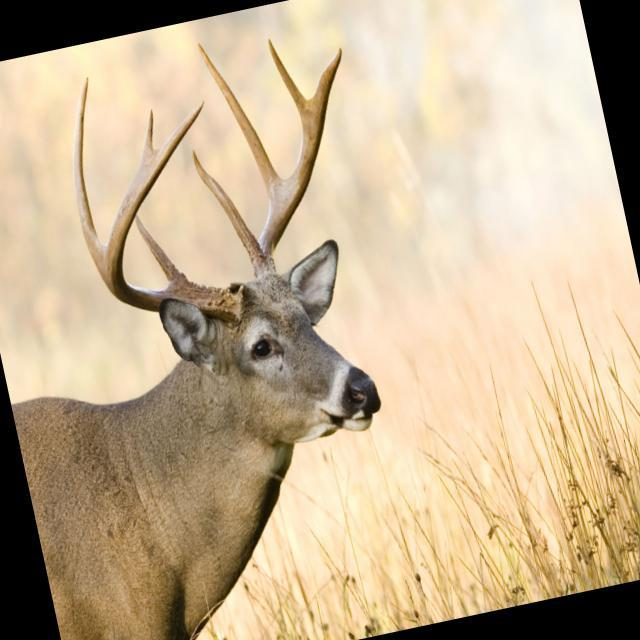L-F: (252, 46, 343, 278)
L-G1: (191, 148, 258, 264)
L-G2: (197, 41, 284, 203)
L-G3: (267, 36, 310, 125)
R-F: (103, 100, 244, 325)
R-G1: (134, 212, 189, 288)
R-G2: (72, 75, 102, 280)
R-G3: (141, 107, 154, 156)
